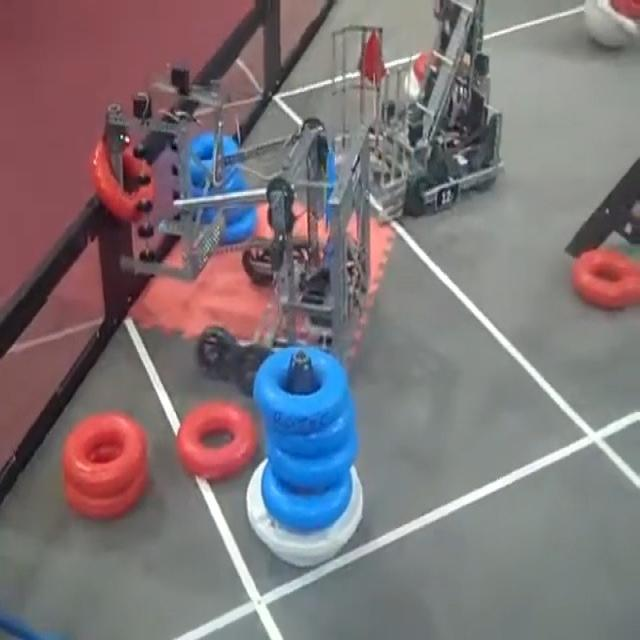Blue-Ring: (259, 342, 352, 428), (262, 461, 352, 530), (268, 423, 355, 483), (274, 401, 353, 450), (192, 136, 239, 185)
Red-Ring: (64, 410, 146, 492), (176, 399, 256, 477), (93, 137, 155, 219), (65, 467, 146, 514), (576, 248, 637, 308)
